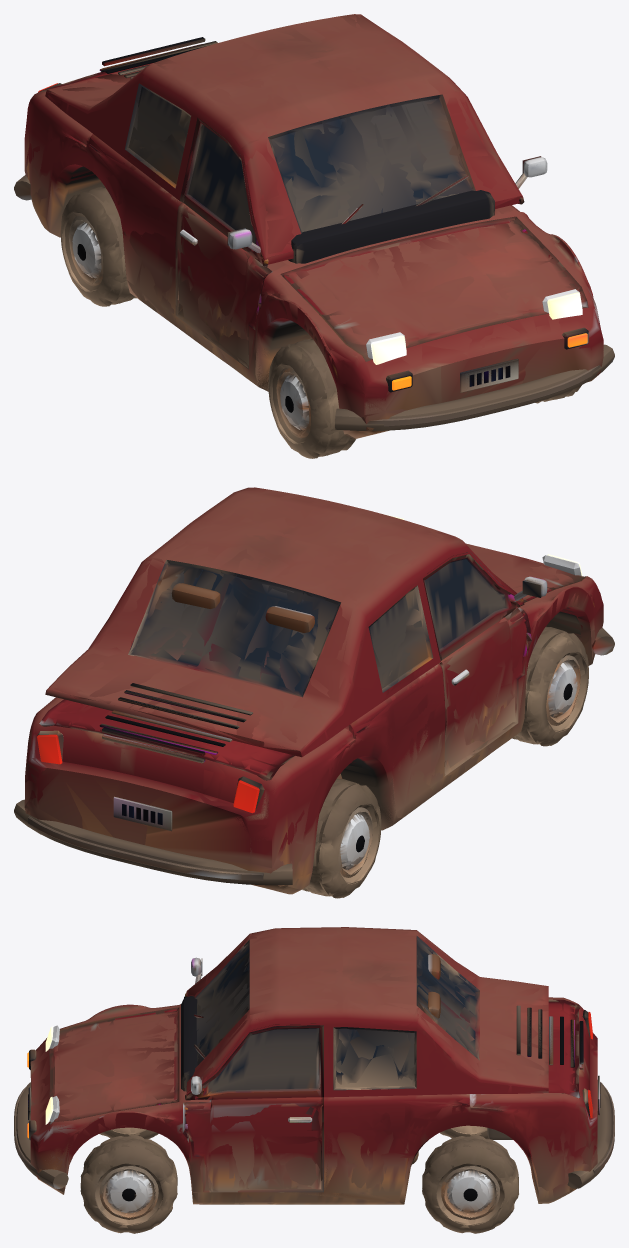
The model's file is Fiat126p.fbx.
3 renders of one model, top to bottom at view 1: azimuth 30°, elevation 25°; view 2: azimuth 150°, elevation 25°; view 3: azimuth 270°, elevation 25°, orthographic. The views are drawn at different scales.
Parts seen in each view (by area): view 1: Body__L2, Body, Body__L1, Hood, Hood__L2, Glass, Glass__L2, Hood__L1, Interior, Glass__L1, Door_R__L2, Bumper_F (+13 smaller); view 2: Body, Body__L2, Body__L1, Glass, Glass__L2, Glass__L1, Door_R__L2, Bumper_R, Trunk, Door_R__Glass, Door_R, Door_R__L1 (+15 smaller); view 3: Body__L2, Body, Body__L1, Door_L, Glass__L2, Door_L__L2, Hood, Door_L__Glass, Hood__L2, Glass, Door_L__L1, Wheel_FL (+15 smaller).
Boxes of the visible parts, box(x1,y1,x2,y2) form: Body__L2: box(24, 15, 603, 438); Body: box(24, 14, 603, 438); Body__L1: box(24, 14, 603, 439); Hood: box(280, 216, 586, 360); Hood__L2: box(281, 216, 588, 361); Glass: box(125, 83, 475, 233); Glass__L2: box(126, 86, 474, 232); Hood__L1: box(282, 218, 580, 359); Interior: box(288, 190, 493, 263); Glass__L1: box(127, 88, 474, 231); Door_R__L2: box(175, 117, 272, 369); Bumper_F: box(335, 344, 614, 430); Body: box(24, 487, 602, 894); Body__L2: box(24, 487, 603, 891); Body__L1: box(25, 489, 602, 894); Glass: box(128, 560, 433, 697); Glass__L2: box(129, 560, 431, 696); Glass__L1: box(135, 560, 429, 691); Door_R__L2: box(423, 552, 546, 775); Bumper_R: box(14, 799, 292, 885); Trunk: box(39, 683, 294, 780); Door_R__Glass: box(424, 559, 541, 649); Door_R: box(423, 552, 547, 776); Door_R__L1: box(424, 552, 546, 775); Body__L2: box(30, 927, 597, 1204); Body: box(28, 927, 600, 1204); Body__L1: box(28, 927, 600, 1204); Door_L: box(183, 1025, 323, 1192); Glass__L2: box(196, 939, 479, 1089); Door_L__L2: box(183, 1024, 323, 1192); Hood: box(49, 1007, 179, 1123); Door_L__Glass: box(201, 1028, 318, 1093); Hood__L2: box(49, 1007, 179, 1124); Glass: box(195, 936, 479, 1090); Door_L__L1: box(183, 1023, 323, 1192); Wheel_FL: box(81, 1135, 177, 1233).
Size of the model in its own units: 1.62 by 1.3 by 3.24.
